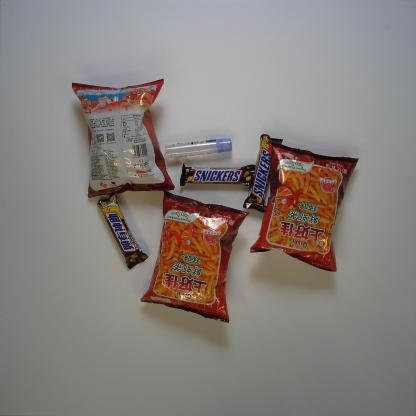Chocolate: (96, 192, 149, 270), (242, 134, 284, 212), (179, 163, 257, 189)
Puffed Food: (248, 140, 360, 272), (140, 189, 250, 322), (69, 78, 176, 199)
Stationery: (164, 137, 233, 159)
